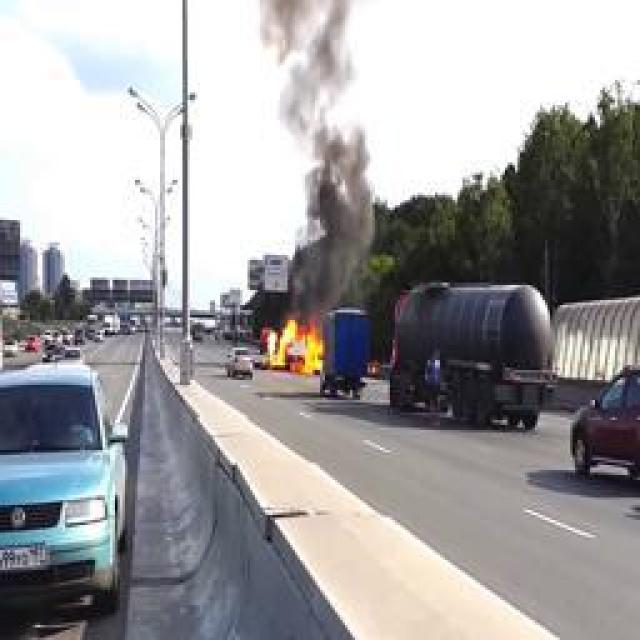Fire: (264, 315, 324, 373)
